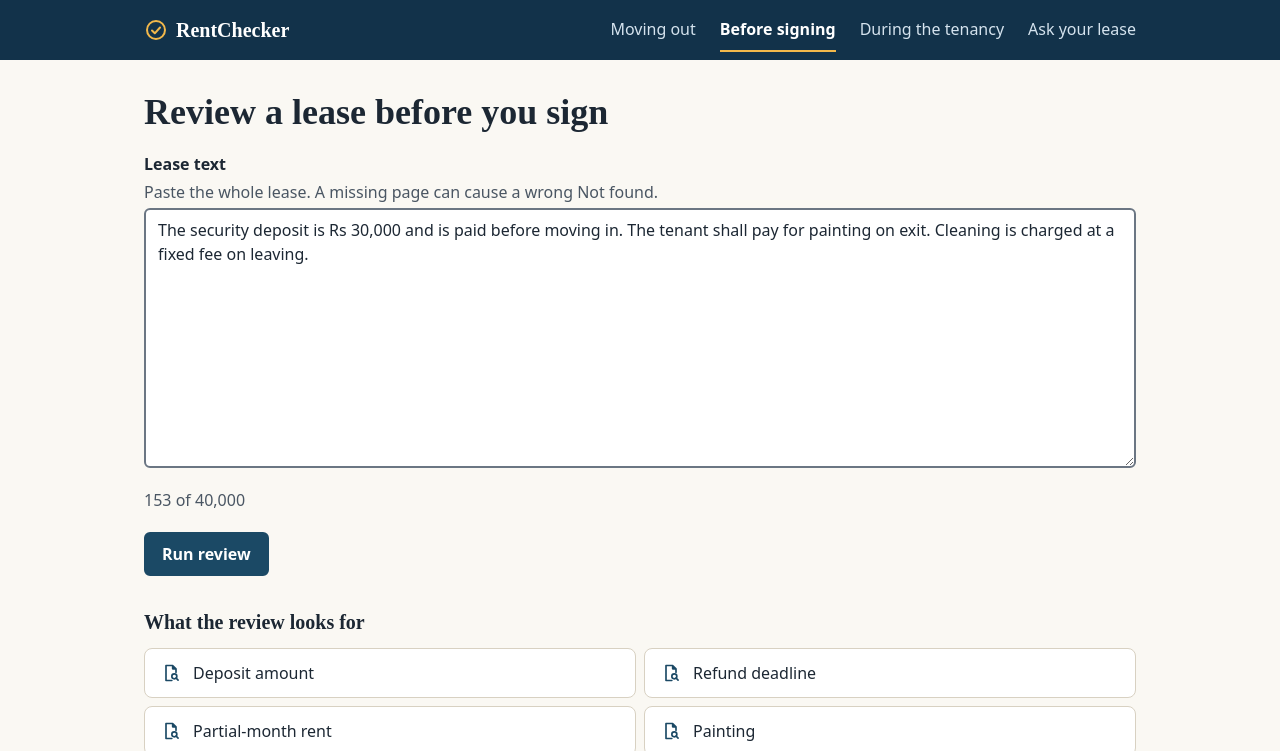
Test: Before signing overrides and copy › F4-R6 F2-R12 a quote that is not in the lease is refused with the F2 sentence
Click the button "Run review". click: (206, 554)
box: [144,532,269,576]
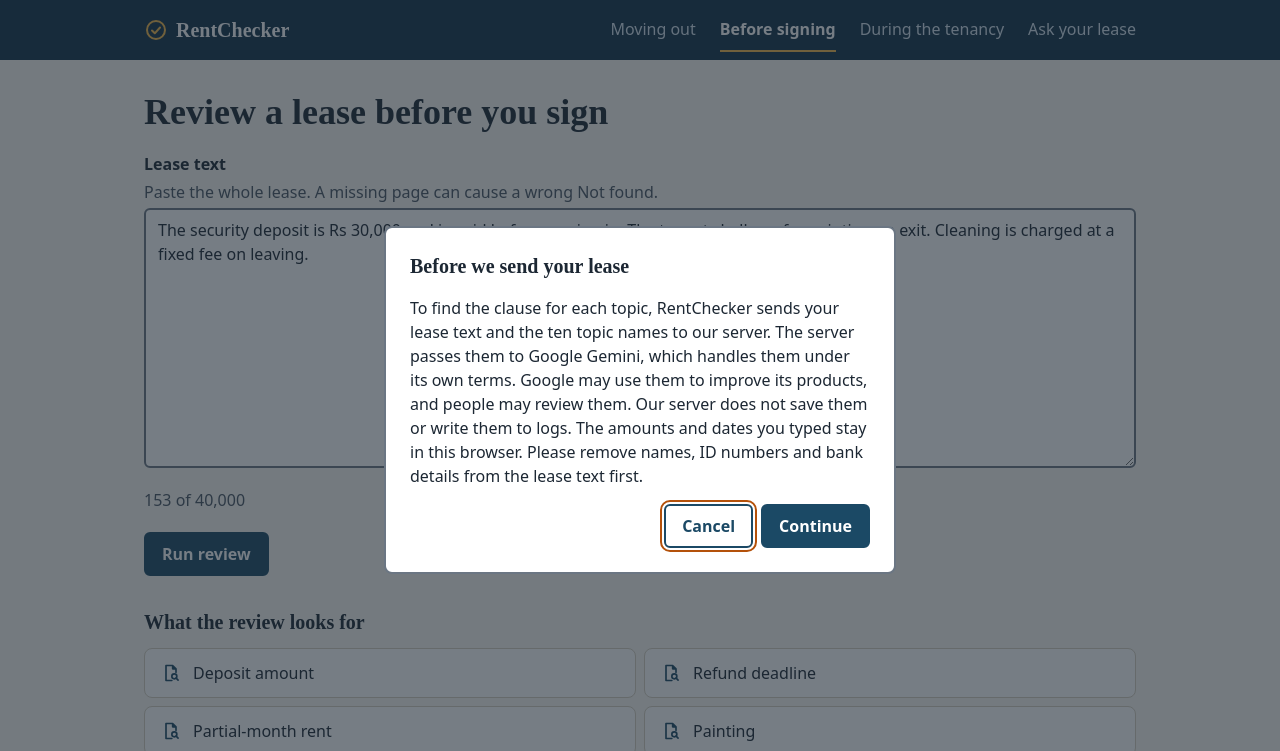
Click the button "Continue". click: (816, 526)
box: [761,504,870,548]
(page scrolled)
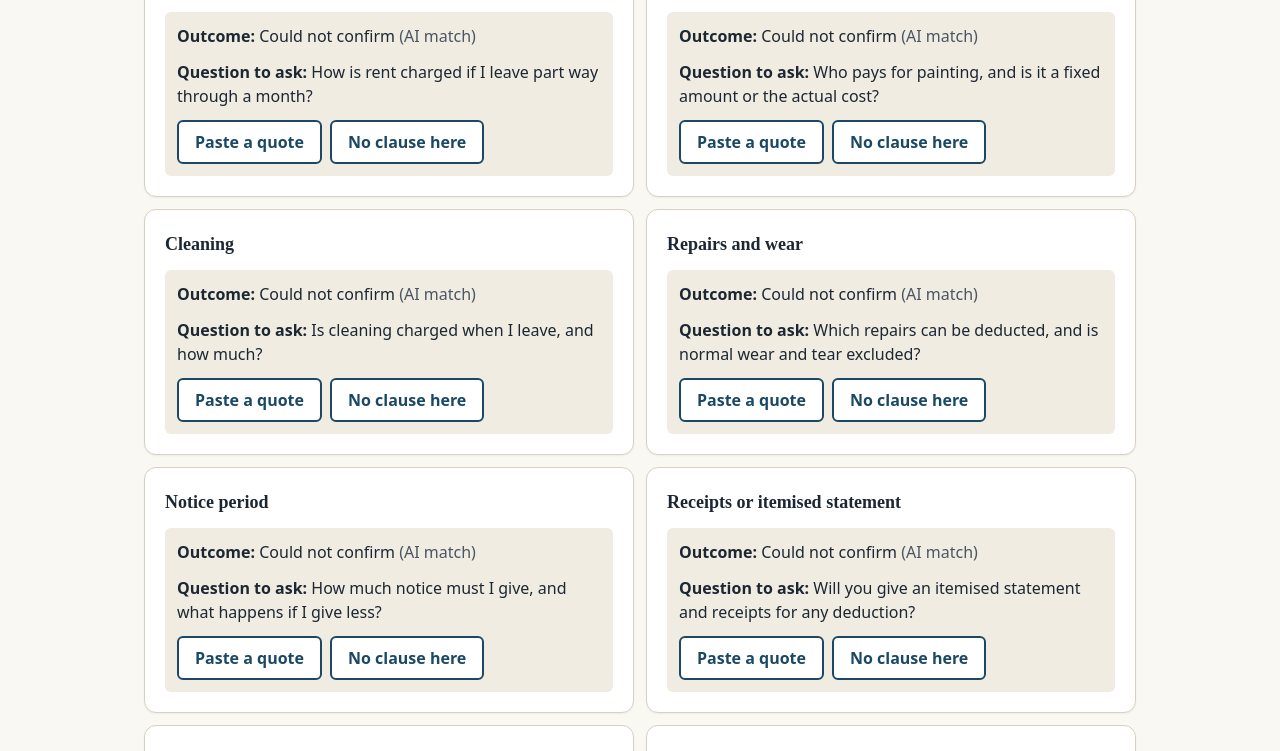
Click the button with aria-label "Paste a quote for Cleaning". click: (250, 400)
box: [177,378,322,422]
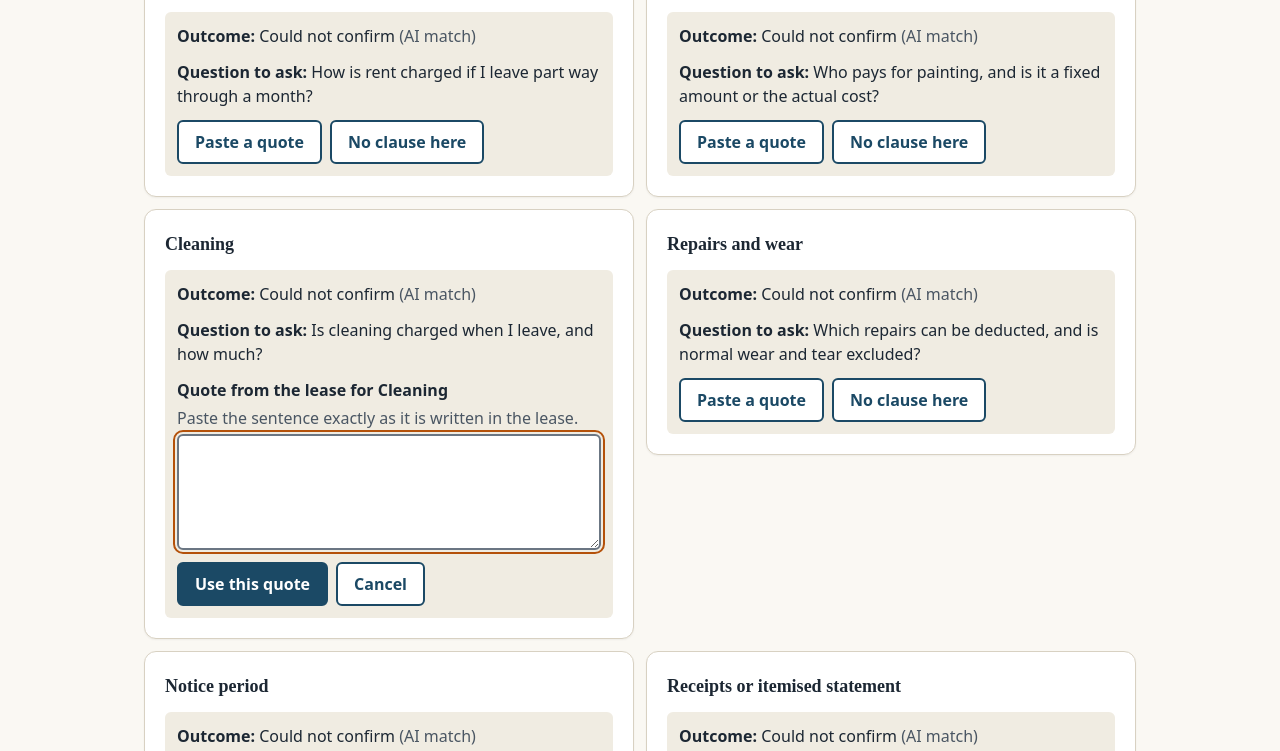
Type "nowhere in the lease text" into the text box labelled "Quote from the lease for Cleaning". click: (389, 492)
box: [177,434,601,550]
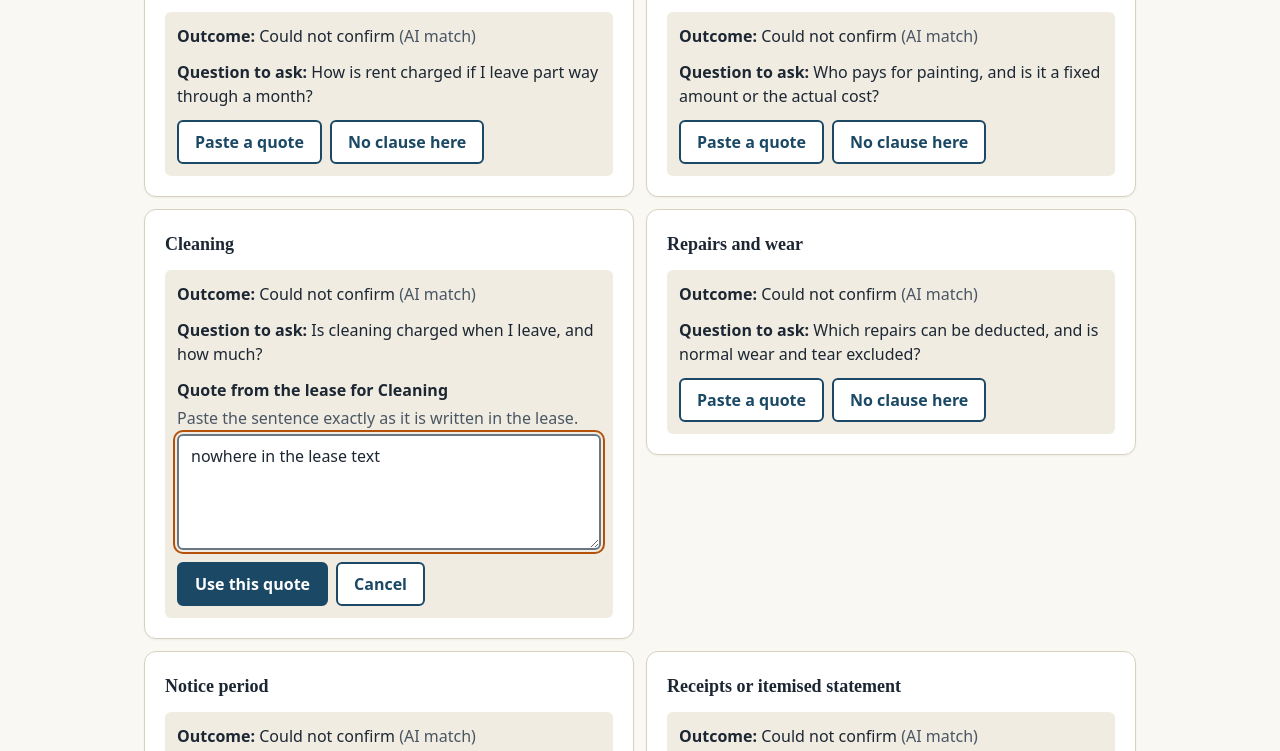
Click the button "Use this quote". click: (253, 584)
box: [177,562,328,606]
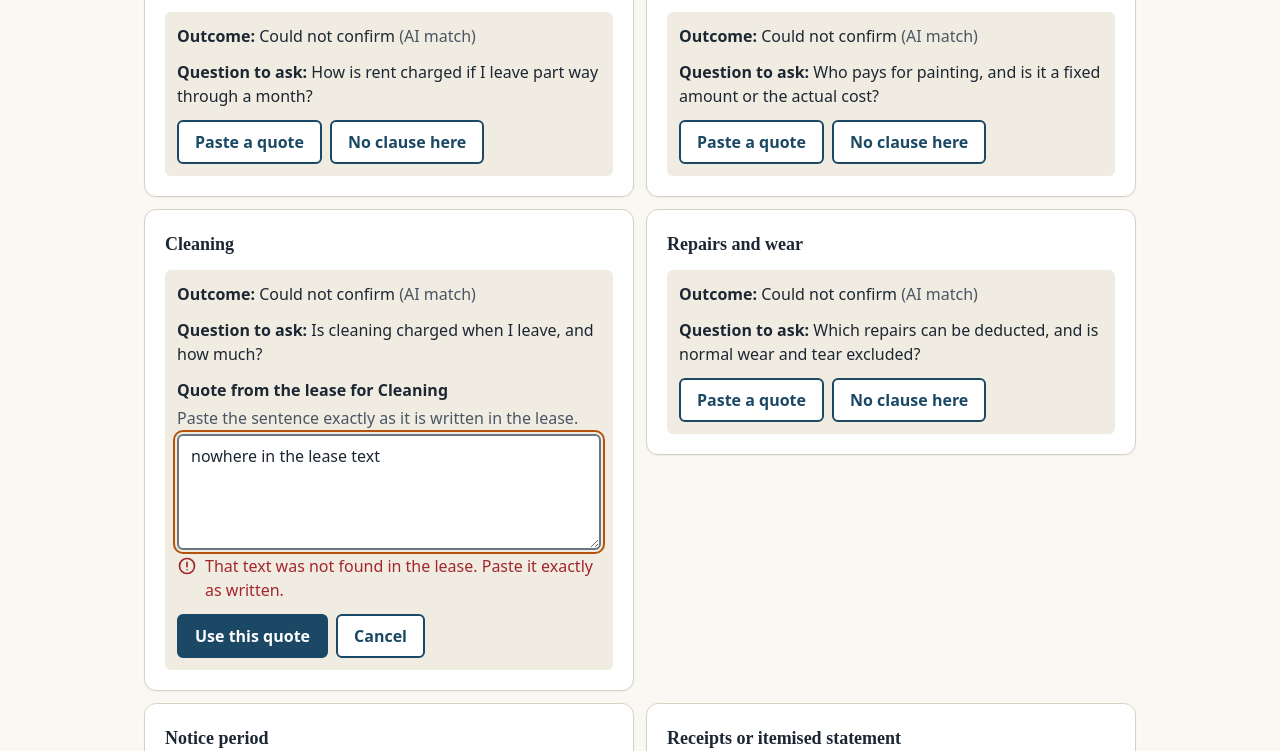
Expected: the 3rd text "Outcome: Could not confirm (AI match)" is shown, [177,283,476,305]
Expected: the text "That text was not found in the lease. Paste it exactly as written." is shown, [205,554,601,602]
